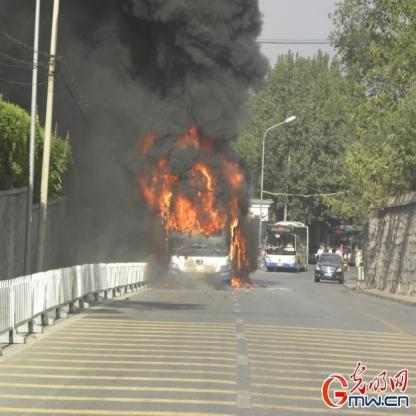fire: (143, 128, 253, 292)
